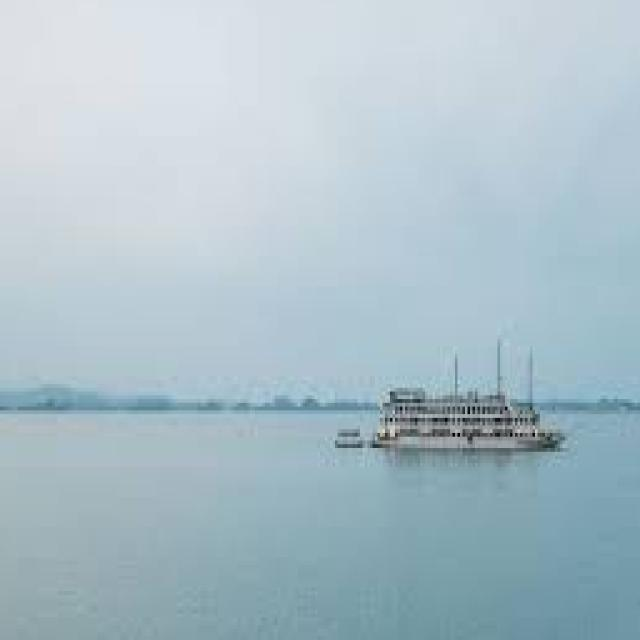passenger ship: (358, 362, 556, 452)
